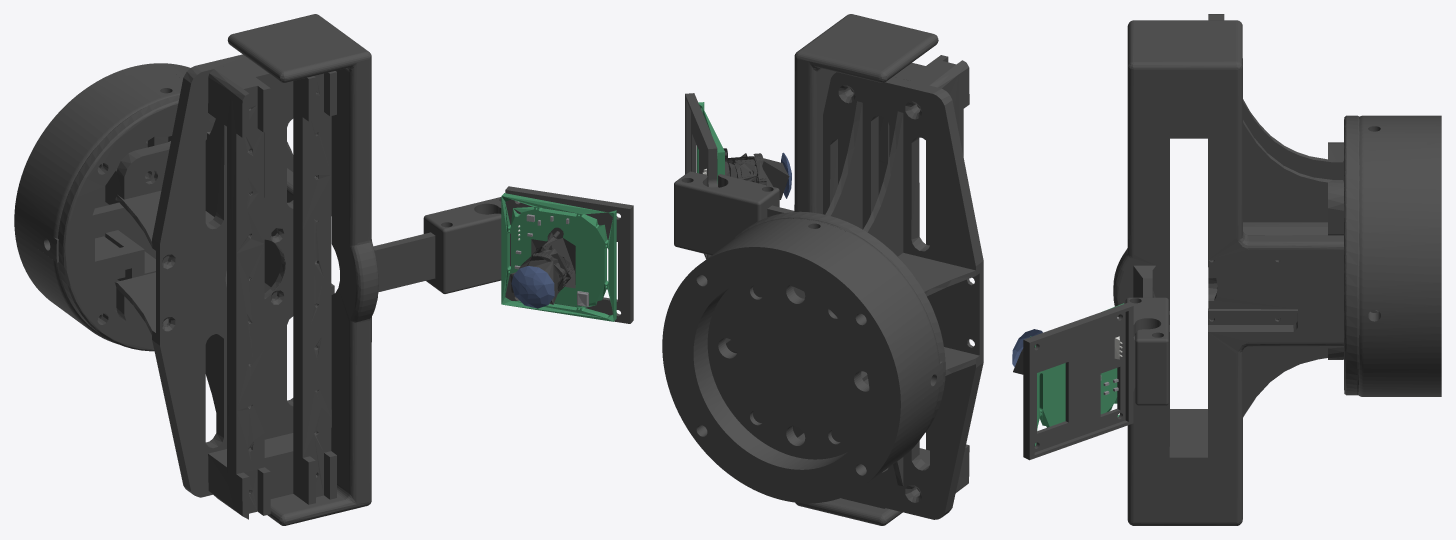
Rendered from body.glb.
3 views of the same model, side by side, from view 1: azimuth 30°, elevation 25°; view 2: azimuth 150°, elevation 25°; view 3: azimuth 270°, elevation 25° (orthographic). The views are drawn at different scales.
Visible parts, largest first — view 1: gripper_backplate_0_gripper_backplate_handumi.stl, bridge_rails_support_0_Bridge_rails_support_v1.stl, mount_for_kuka_0_mount_for_kuka_v11.stl, arducam_0_geometry_0, camera_mount_0_camera_mount.stl, camera_anchor_right_0_camera_anchor_right_50_degrees.stl, camera_anchor_left_0_camera_anchor_left_50_degrees.stl; view 2: mount_for_kuka_0_mount_for_kuka_v11.stl, gripper_backplate_0_gripper_backplate_handumi.stl, camera_anchor_right_0_camera_anchor_right_50_degrees.stl, bridge_rails_support_0_Bridge_rails_support_v1.stl, arducam_0_geometry_0, camera_mount_0_camera_mount.stl, camera_anchor_left_0_camera_anchor_left_50_degrees.stl; view 3: gripper_backplate_0_gripper_backplate_handumi.stl, mount_for_kuka_0_mount_for_kuka_v11.stl, camera_mount_0_camera_mount.stl, arducam_0_geometry_0, camera_anchor_right_0_camera_anchor_right_50_degrees.stl, bridge_rails_support_0_Bridge_rails_support_v1.stl, camera_anchor_left_0_camera_anchor_left_50_degrees.stl.
Part boxes in pixels (<box>): gripper_backplate_0_gripper_backplate_handumi.stl: <box>58,14,435,525</box>; bridge_rails_support_0_Bridge_rails_support_v1.stl: <box>208,60,336,519</box>; mount_for_kuka_0_mount_for_kuka_v11.stl: <box>14,63,213,343</box>; arducam_0_geometry_0: <box>501,193,616,321</box>; camera_mount_0_camera_mount.stl: <box>505,186,633,323</box>; camera_anchor_right_0_camera_anchor_right_50_degrees.stl: <box>423,197,501,260</box>; camera_anchor_left_0_camera_anchor_left_50_degrees.stl: <box>426,247,501,293</box>; mount_for_kuka_0_mount_for_kuka_v11.stl: <box>662,218,943,503</box>; gripper_backplate_0_gripper_backplate_handumi.stl: <box>725,14,983,525</box>; camera_anchor_right_0_camera_anchor_right_50_degrees.stl: <box>674,171,779,230</box>; bridge_rails_support_0_Bridge_rails_support_v1.stl: <box>850,55,969,492</box>; arducam_0_geometry_0: <box>697,102,791,199</box>; camera_mount_0_camera_mount.stl: <box>685,93,718,259</box>; camera_anchor_left_0_camera_anchor_left_50_degrees.stl: <box>674,213,743,255</box>; gripper_backplate_0_gripper_backplate_handumi.stl: <box>1113,14,1378,525</box>; mount_for_kuka_0_mount_for_kuka_v11.stl: <box>1358,115,1441,396</box>; camera_mount_0_camera_mount.stl: <box>1023,303,1135,460</box>; arducam_0_geometry_0: <box>1012,303,1124,446</box>; camera_anchor_right_0_camera_anchor_right_50_degrees.stl: <box>1125,297,1168,371</box>; bridge_rails_support_0_Bridge_rails_support_v1.stl: <box>1153,139,1207,446</box>; camera_anchor_left_0_camera_anchor_left_50_degrees.stl: <box>1133,371,1168,405</box>.
Bounding box in the file's own units: 0.1539 × 0.16 × 0.1342.
